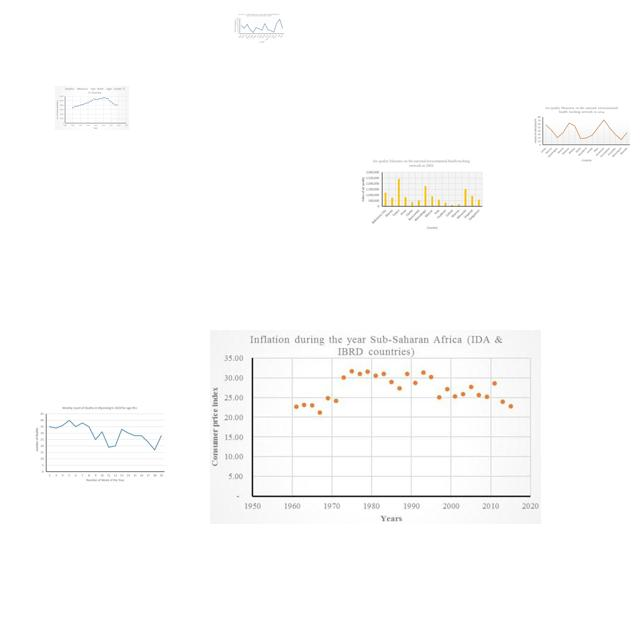Graph: (210, 330, 541, 524), (32, 404, 168, 486), (359, 157, 485, 232), (531, 105, 631, 163), (55, 86, 129, 130), (233, 13, 285, 44)
